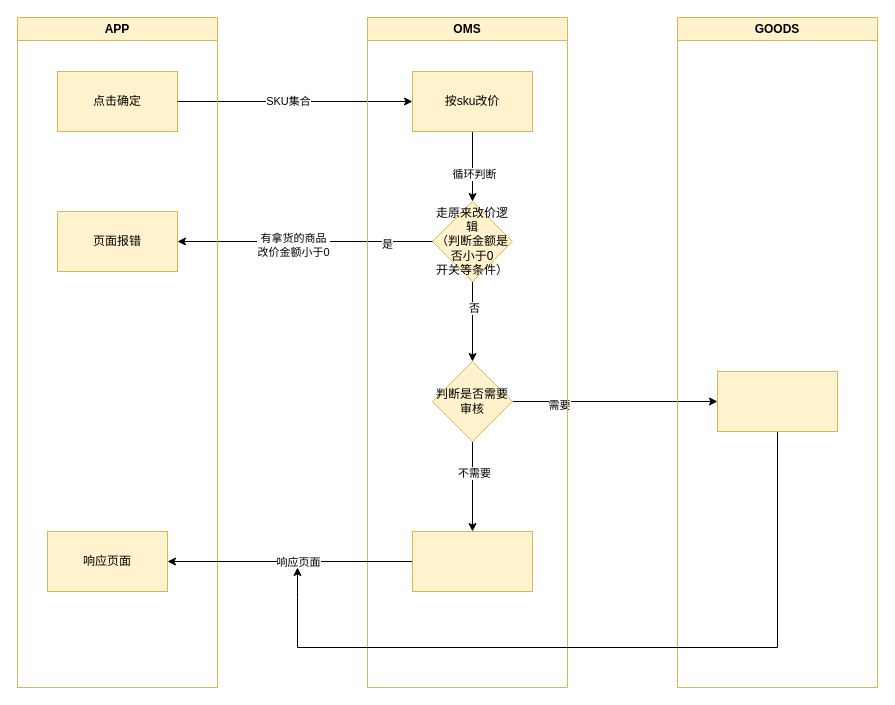
This 895x705 diagram has some shape labels left out. Here are the shapes that lost their labels. From the top down, the centre of each, then its label:
At point (777, 401): "生成审核记录".
At point (472, 561): "更改商品价格 OMS、WMS、GOODS".
